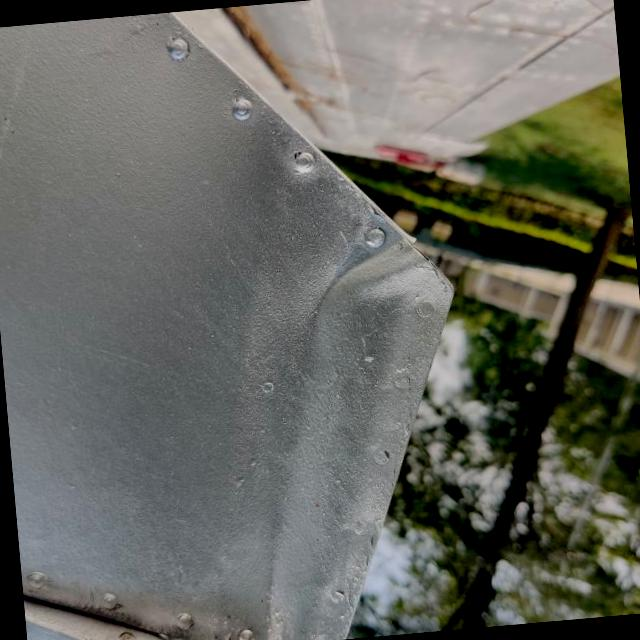dent: (295, 202, 446, 340)
